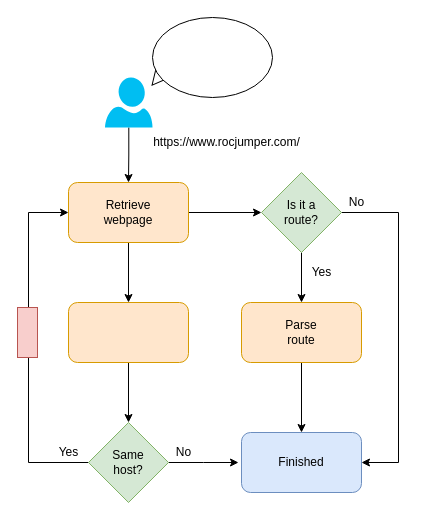
Image size: 424x520. Some labels were removed from this diagram. Here are the shapes that lost their labels. From the top down, the centre of each, then its label:
(212,57): I want to climb! But where?
(27,332): Async
(128,332): Get all links
